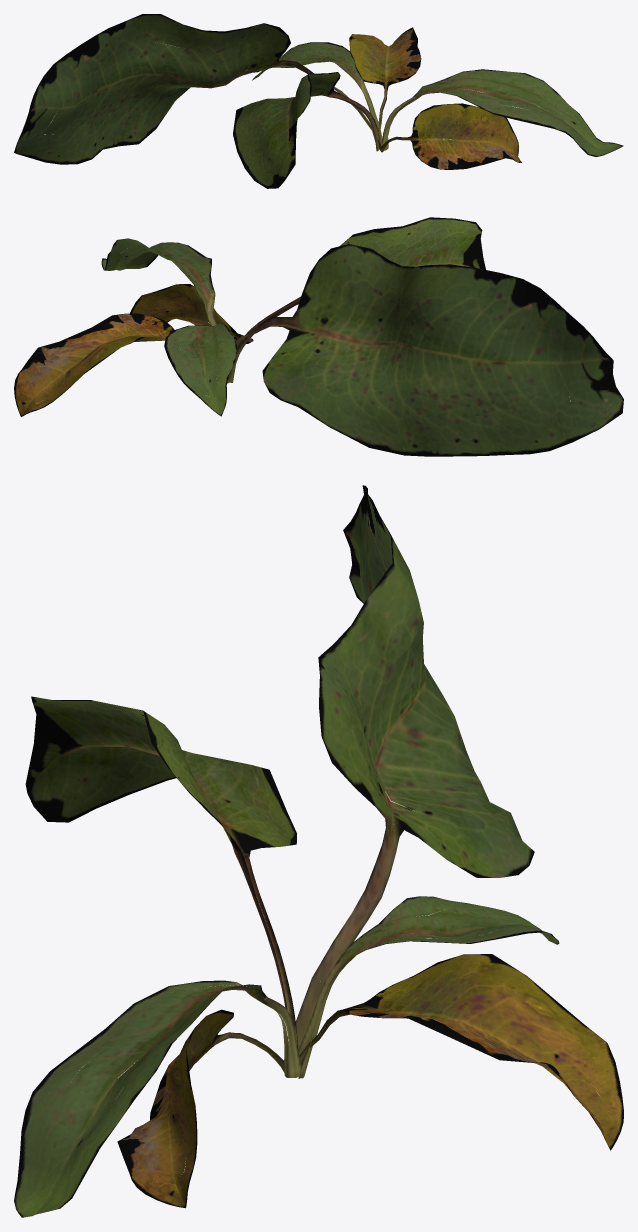
File: weed_plant_02_v5.glb
3 views of the same model, one above another, from view 1: azimuth 30°, elevation 25°; view 2: azimuth 150°, elevation 25°; view 3: azimuth 270°, elevation 25° (orthographic). The views are drawn at different scales.
Parts seen in each view (by area): view 1: lod0; view 2: lod0; view 3: lod0.
Boxes of the visible parts, x1,y1,x2,y2 form: lod0: (14, 14, 623, 188); lod0: (14, 217, 623, 456); lod0: (14, 485, 623, 1217).
Size of what is drawn, in the model's own units: 0.1192 by 0.0401 by 0.061.
1 material, 1 textured.
